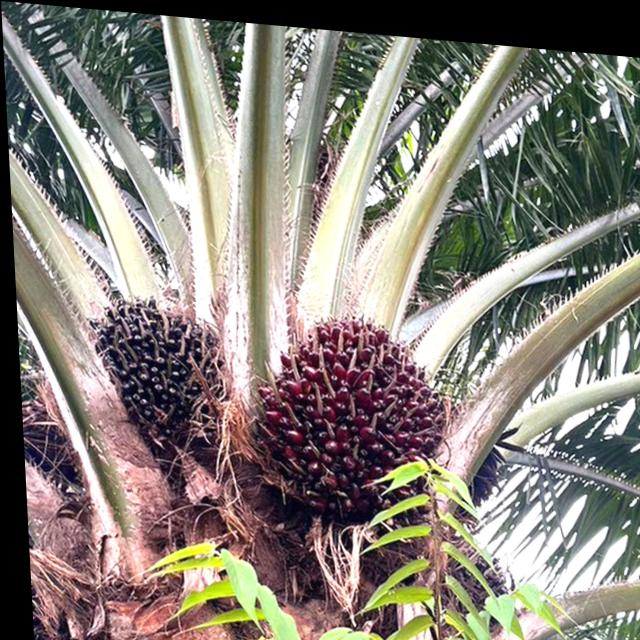ripe: (215, 277, 469, 538)
